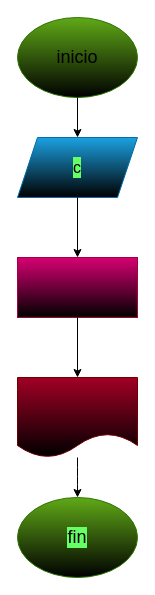
Some shapes in this 155 by 595 pixel diagram are drawn without their labels. The shapes that lost their labels are listed below. From the top down, each one's centre as x and y in pixels, then its label:
At (77,287): "F=1.8c +32 K=c + 273.15".
At (77,417): "K F".
